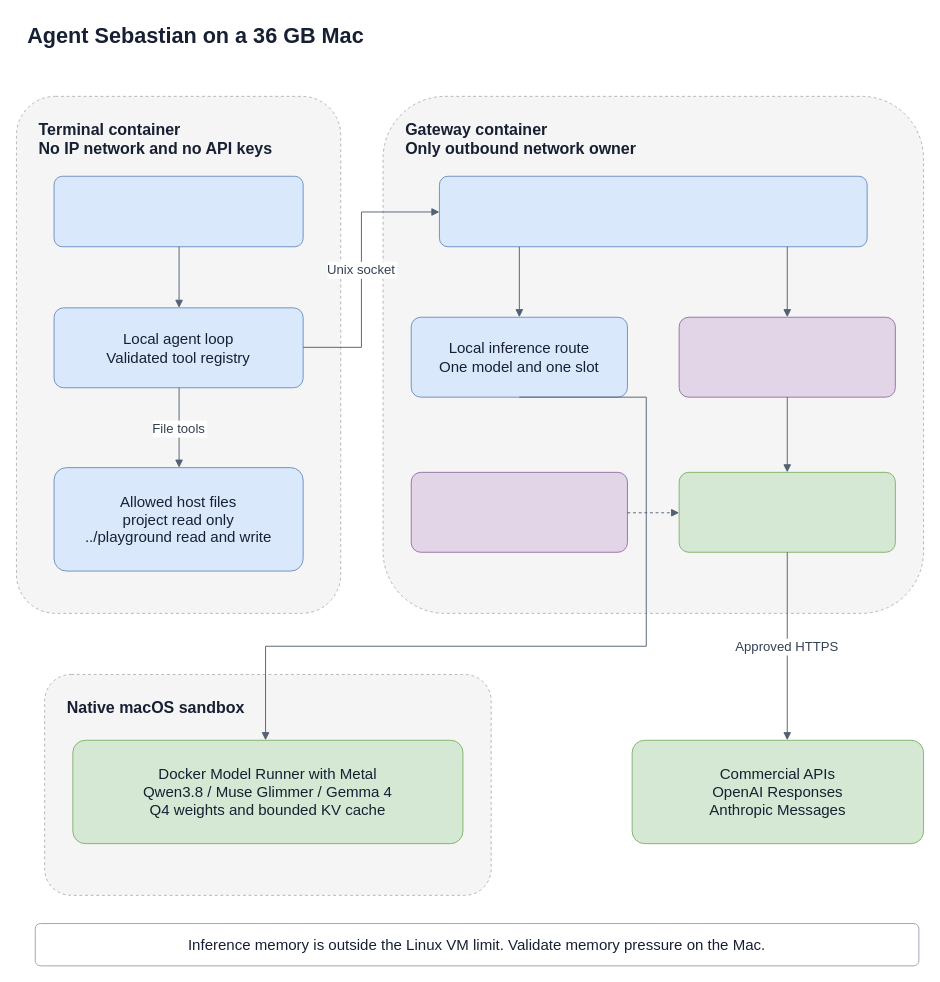
Image size: 940x982. Some labels were removed from this diagram. Here are the shapes that lost their labels. From the top down, the centre of each, then its label:
At point (178, 211): "Text console chat exit setting".
At point (653, 211): "Fixed model adapters Validated settings and requests".
At point (786, 356): "Privacy screening Human export approval".
At point (518, 511): "Protected Docker volumes API keys and accounting".
At point (786, 511): "Budget reservations and usage reconciliation".
